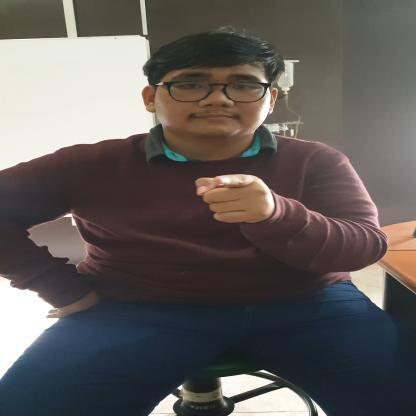Kamu: (192, 172, 281, 228)
